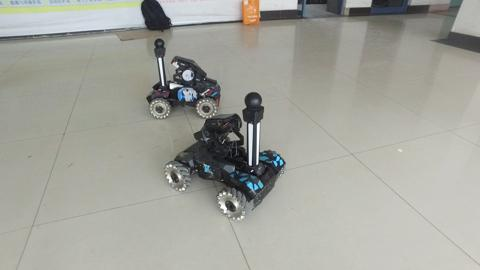chariot: (162, 88, 284, 222), (144, 34, 223, 120)
